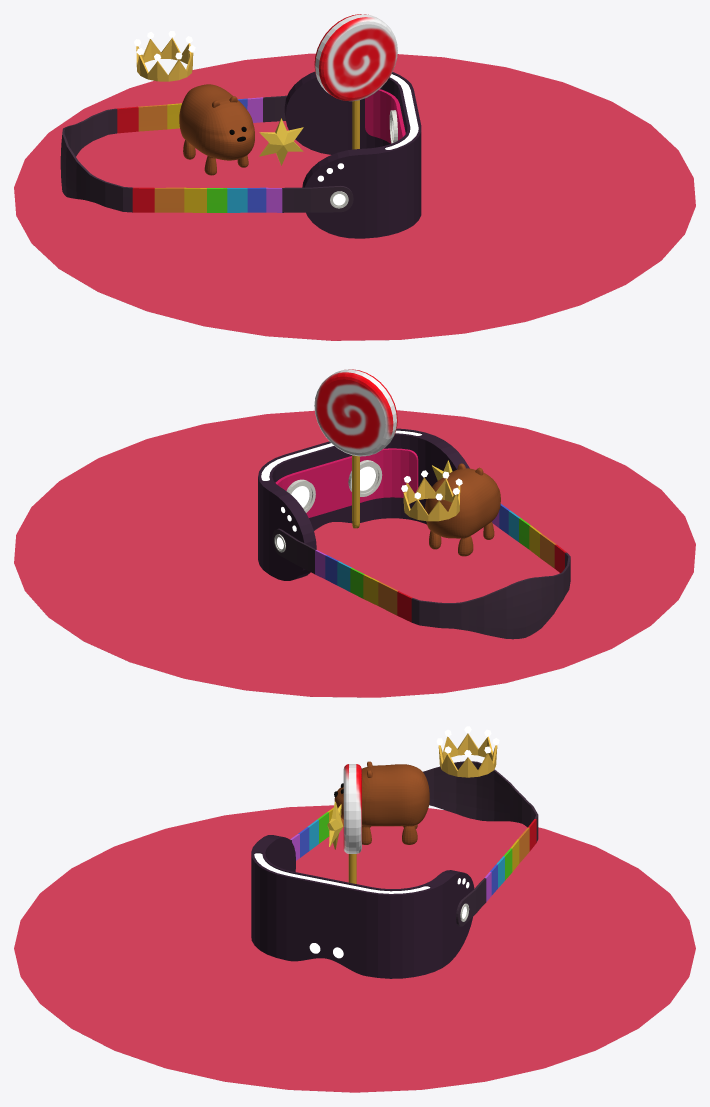
Rendered from vr_playground.gltf.
3 views of the same model, one above another, from view 1: azimuth 30°, elevation 25°; view 2: azimuth 150°, elevation 25°; view 3: azimuth 270°, elevation 25° (orthographic).
Visible parts, largest first — view 1: Stage, Headset, Lollipop, Bear, Crown, Star; view 2: Stage, Headset, Lollipop, Bear, Crown; view 3: Stage, Headset, Bear, Lollipop, Crown.
Boxes of the visible parts, x1,y1,x2,y2 form: Stage: (14,53,695,340); Headset: (60,71,421,238); Lollipop: (314,14,397,149); Bear: (179,84,254,175); Crown: (134,31,195,81); Star: (259,118,303,165); Stage: (14,410,695,697); Headset: (258,428,570,639); Lollipop: (314,369,397,528); Bear: (425,463,500,556); Crown: (401,470,462,521); Stage: (14,805,695,1092); Headset: (251,761,538,978); Bear: (334,761,429,844); Lollipop: (343,764,361,883); Crown: (436,726,499,777).
Size of the model in its own units: 11.08 by 3.24 by 11.08.
Materials: 20 (1 with a texture image).
